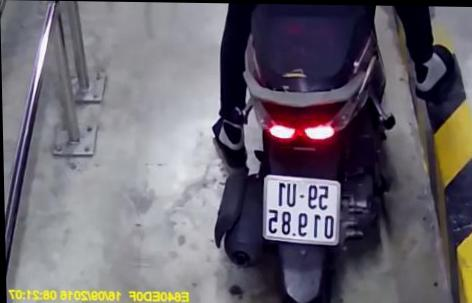License_Plate: (255, 176, 347, 249)
